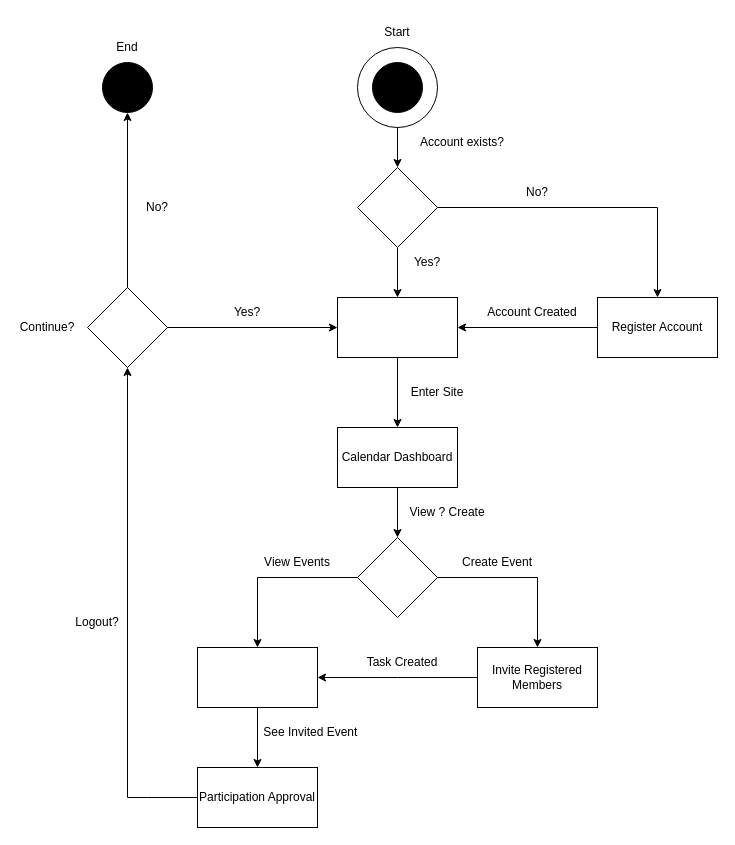
The diagram is 735 pixels wide and 845 high, and some of its shapes have lost their labels. Each missing label, with the centre of its shape:
"Login Account" belongs at pixel 397 327.
"See Calendar Events" belongs at pixel 257 677.
